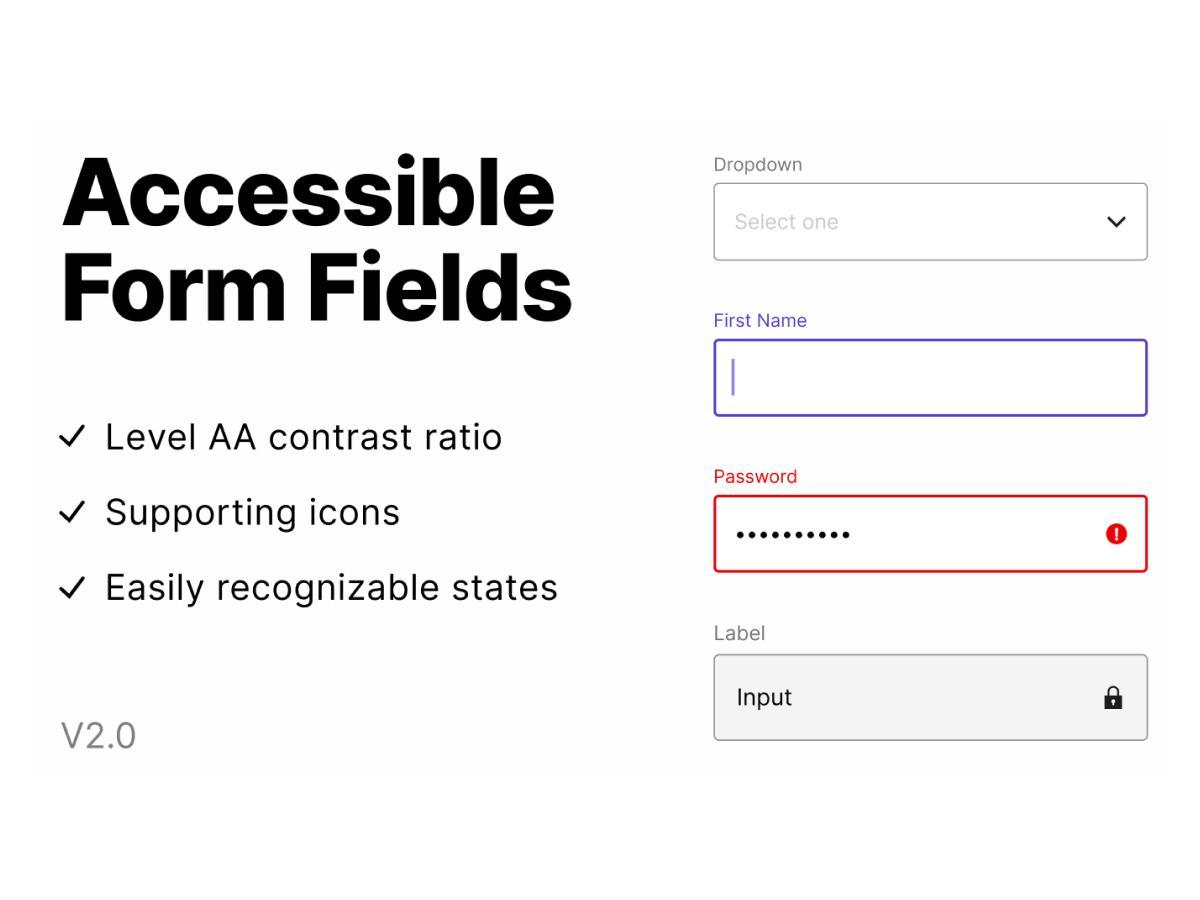dropdown: (716, 185, 1150, 264)
icon: (1101, 680, 1132, 717)
input: (716, 657, 1147, 741), (717, 495, 1149, 575), (715, 340, 1147, 414)
label: (707, 149, 815, 182), (710, 461, 811, 495), (710, 310, 815, 337), (707, 617, 774, 654)
